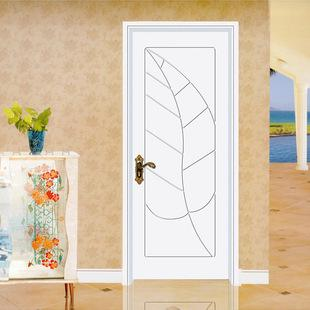door: (131, 29, 229, 283)
